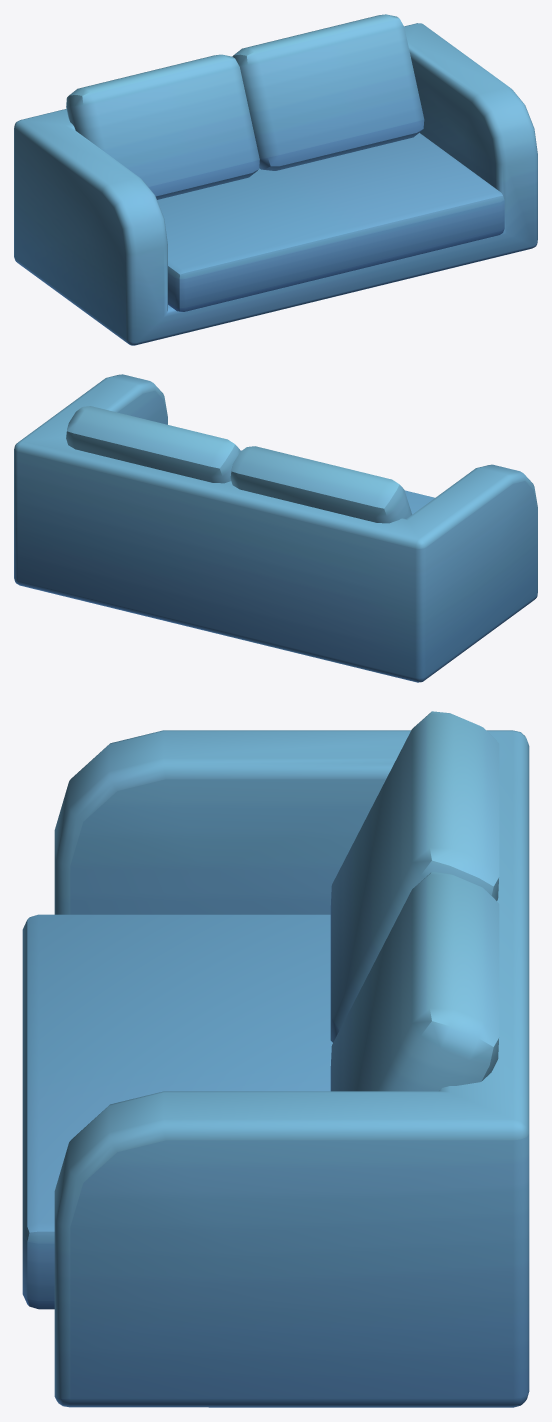
The model's file is couch.glb.
The picture shows the model from 3 angles, top to bottom: view 1: azimuth 30°, elevation 25°; view 2: azimuth 150°, elevation 25°; view 3: azimuth 270°, elevation 25°; orthographic projection. The views are drawn at different scales.
Parts seen in each view (by area): view 1: couch; view 2: couch; view 3: couch.
Part boxes in pixels (bbox=[...]): couch: bbox=[14, 14, 537, 345]; couch: bbox=[14, 374, 537, 682]; couch: bbox=[22, 711, 529, 1407].
Bounding box in the file's own units: 3 × 1.22 × 1.6.
1 material, 1 textured.
